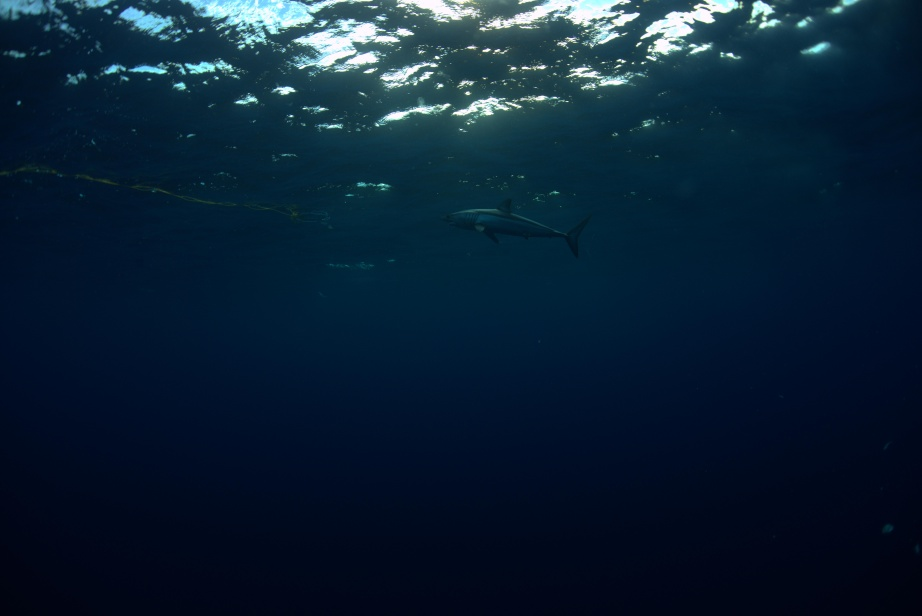Mako: (429, 182, 603, 271)
